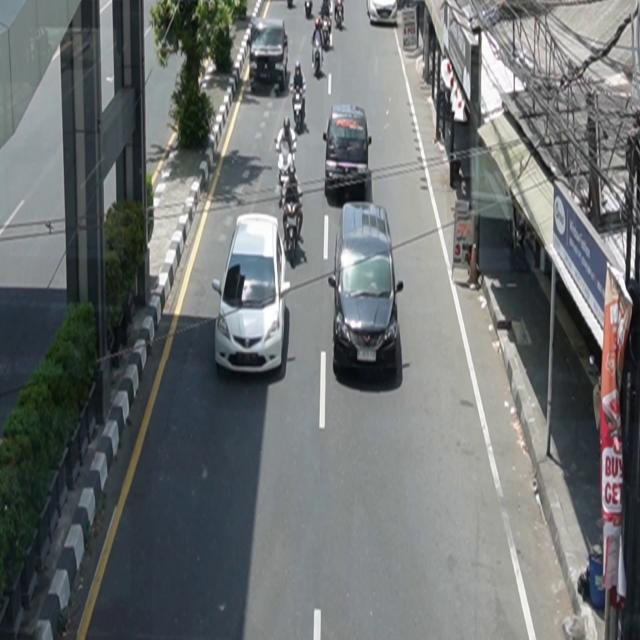car: (329, 202, 405, 379), (213, 213, 291, 377), (324, 104, 373, 199), (249, 18, 290, 92), (367, 1, 398, 26)
